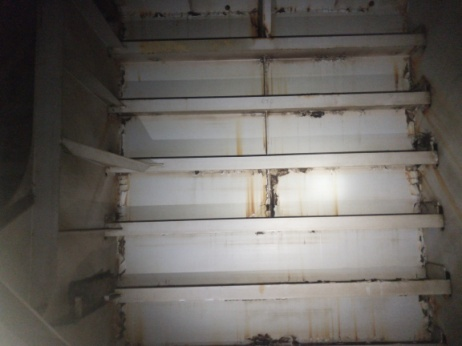corrosion: (242, 179, 283, 225), (407, 299, 449, 342), (104, 169, 134, 222), (104, 238, 133, 290), (275, 100, 363, 117), (406, 167, 442, 208), (399, 106, 434, 145), (395, 56, 434, 89), (241, 5, 274, 41), (255, 54, 281, 99), (108, 109, 136, 149), (111, 309, 137, 346), (111, 0, 136, 38), (235, 115, 256, 155), (245, 328, 305, 342), (102, 60, 129, 83), (325, 189, 348, 214), (289, 192, 309, 212)
